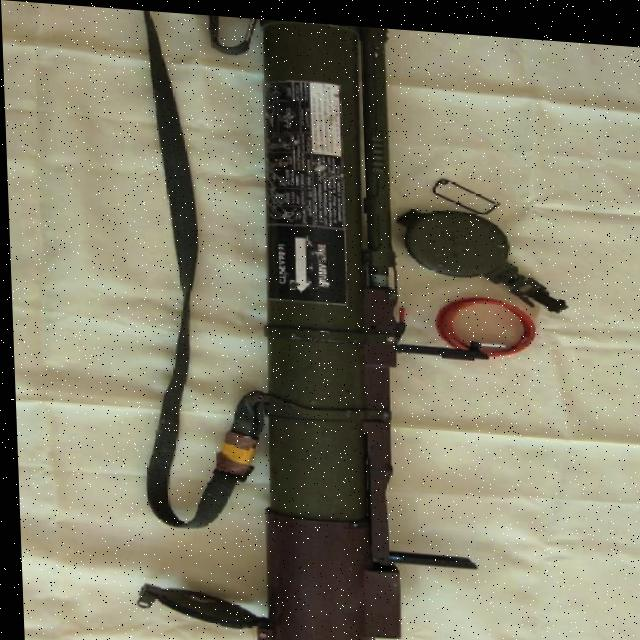rocket: (89, 5, 503, 640)
